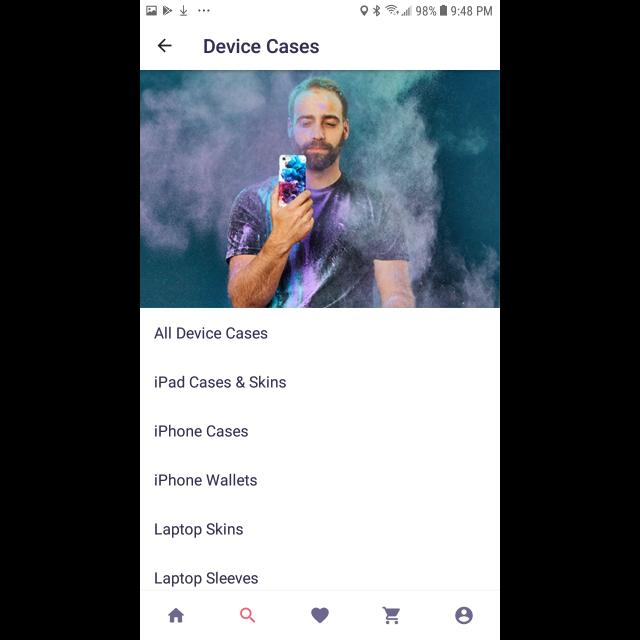icon: (455, 607, 473, 625), (383, 606, 401, 624), (311, 608, 329, 624), (240, 607, 256, 623), (168, 608, 184, 624), (158, 39, 172, 53)
image: (140, 71, 500, 309)
text: (204, 38, 320, 54), (156, 571, 258, 587), (156, 376, 286, 388), (154, 326, 268, 339), (155, 522, 243, 538), (156, 424, 248, 438), (156, 474, 258, 486)
uppertaskbar: (140, 1, 500, 17)
